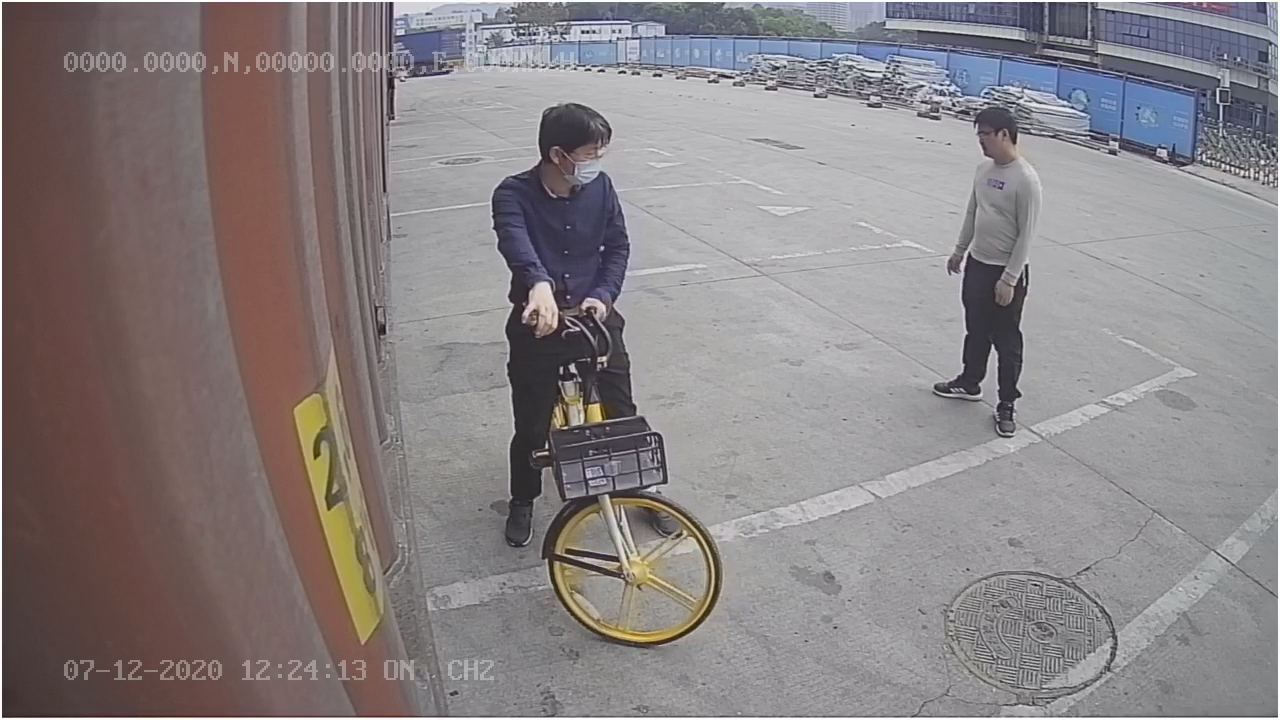person: (927, 104, 1049, 447)
